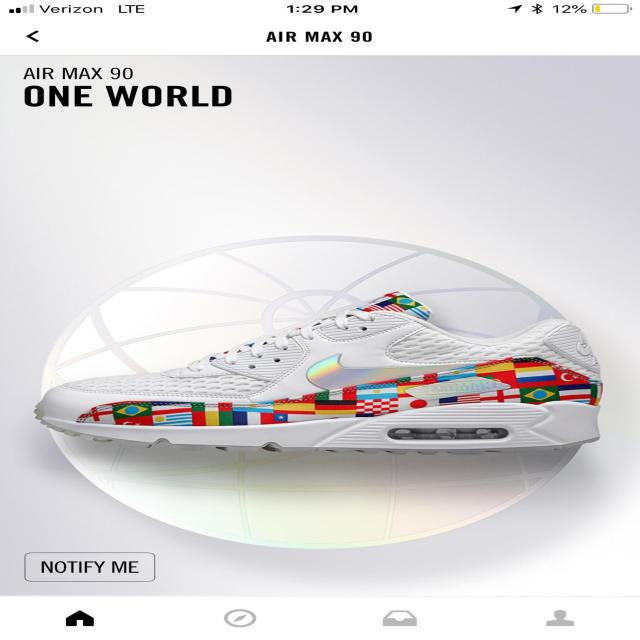shoe: (34, 289, 614, 457)
